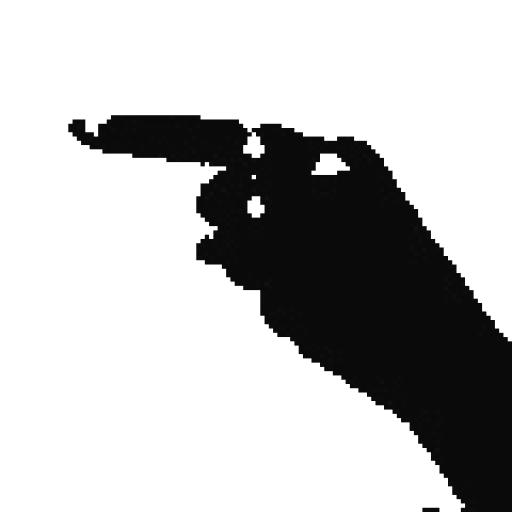index_right: (68, 113, 512, 323)
